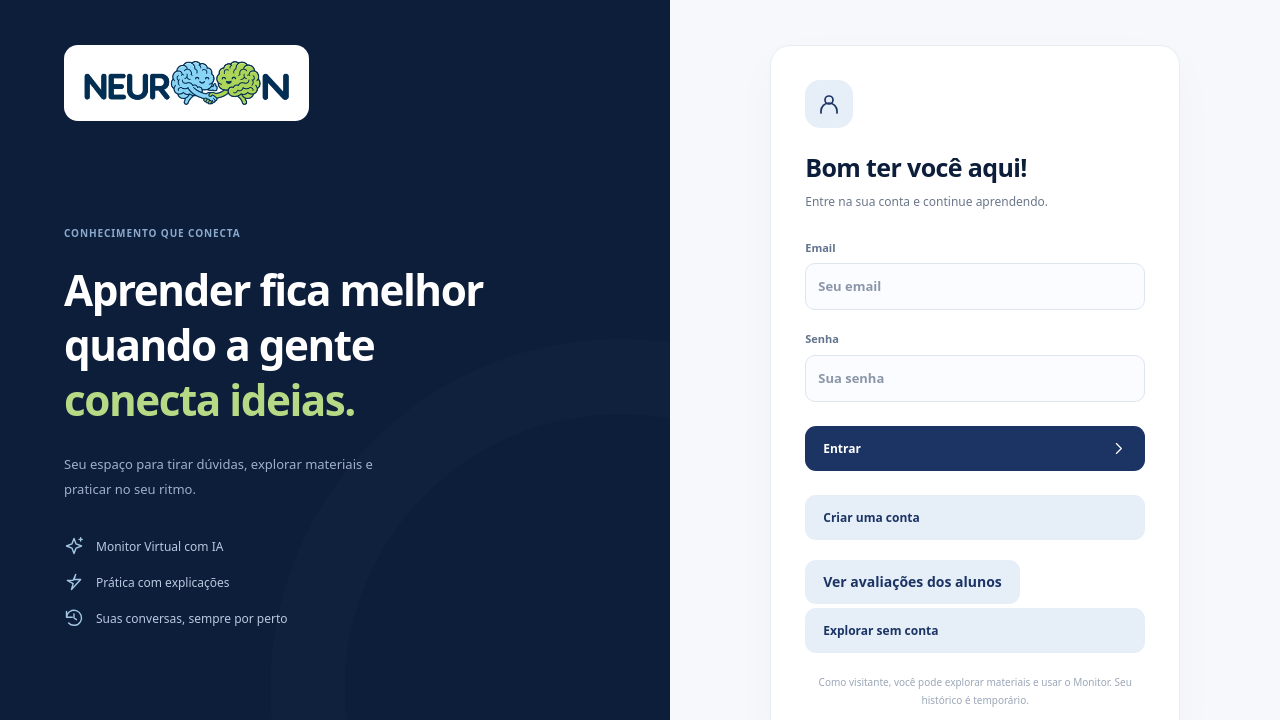
Test case: cadastra pela tela de entrada e orienta o login
Click the button "Criar uma conta" at x=872, y=517, box [805,495,1145,540]
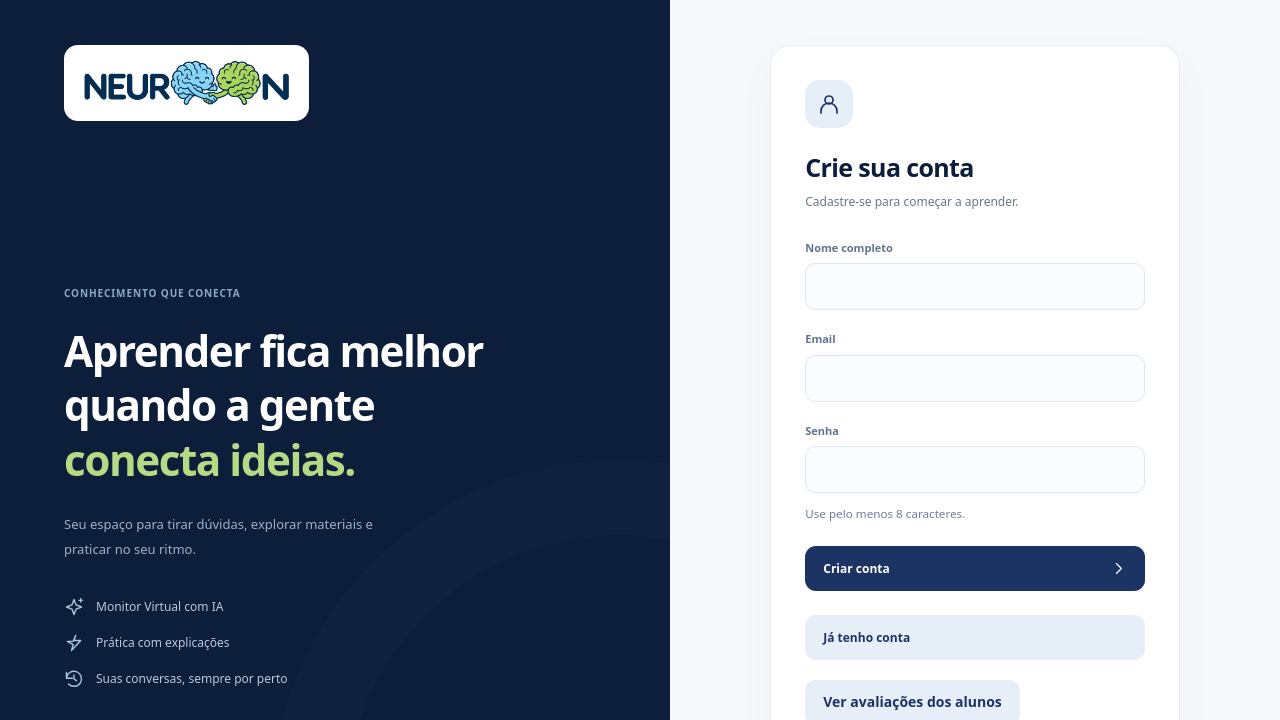
Type "Ana" into the field labelled "Nome completo" at x=975, y=287, box [805,263,1145,310]
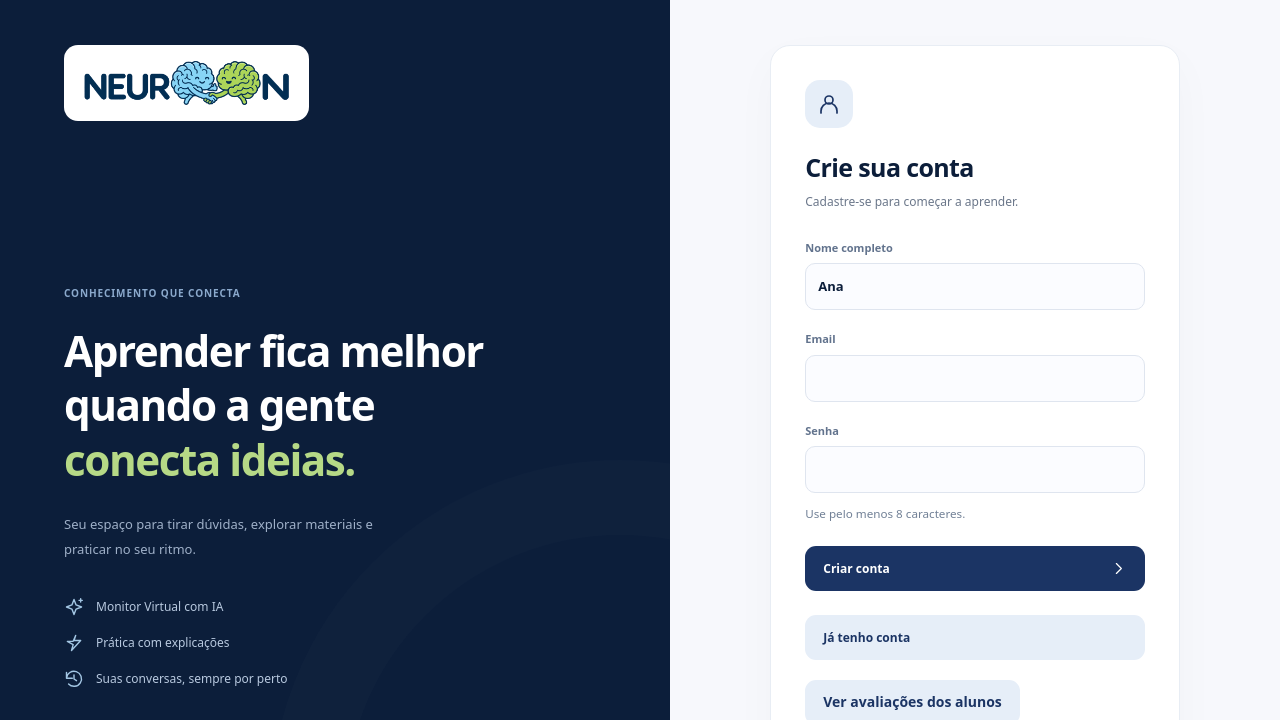
Type "ana@example.test" into the field labelled "Email" at x=975, y=378, box [805,355,1145,402]
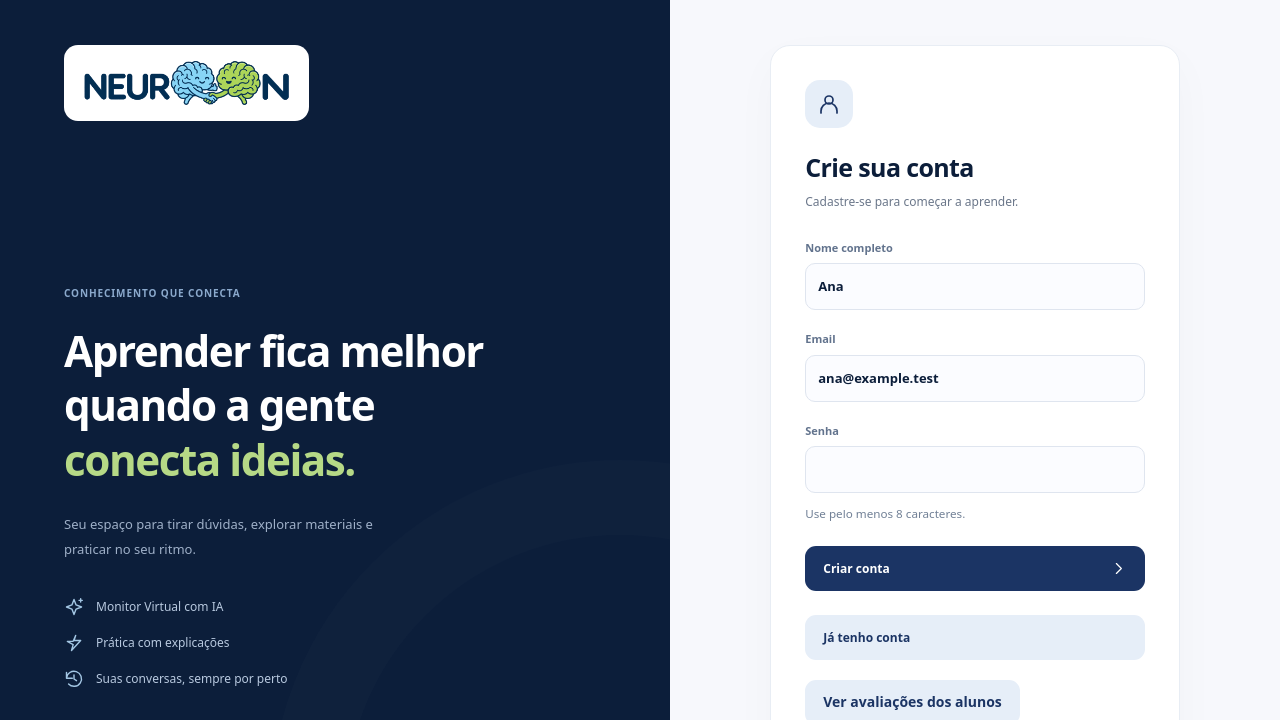
Type "senha-segura-123" into the password field labelled "Senha" at x=975, y=470, box [805,446,1145,494]
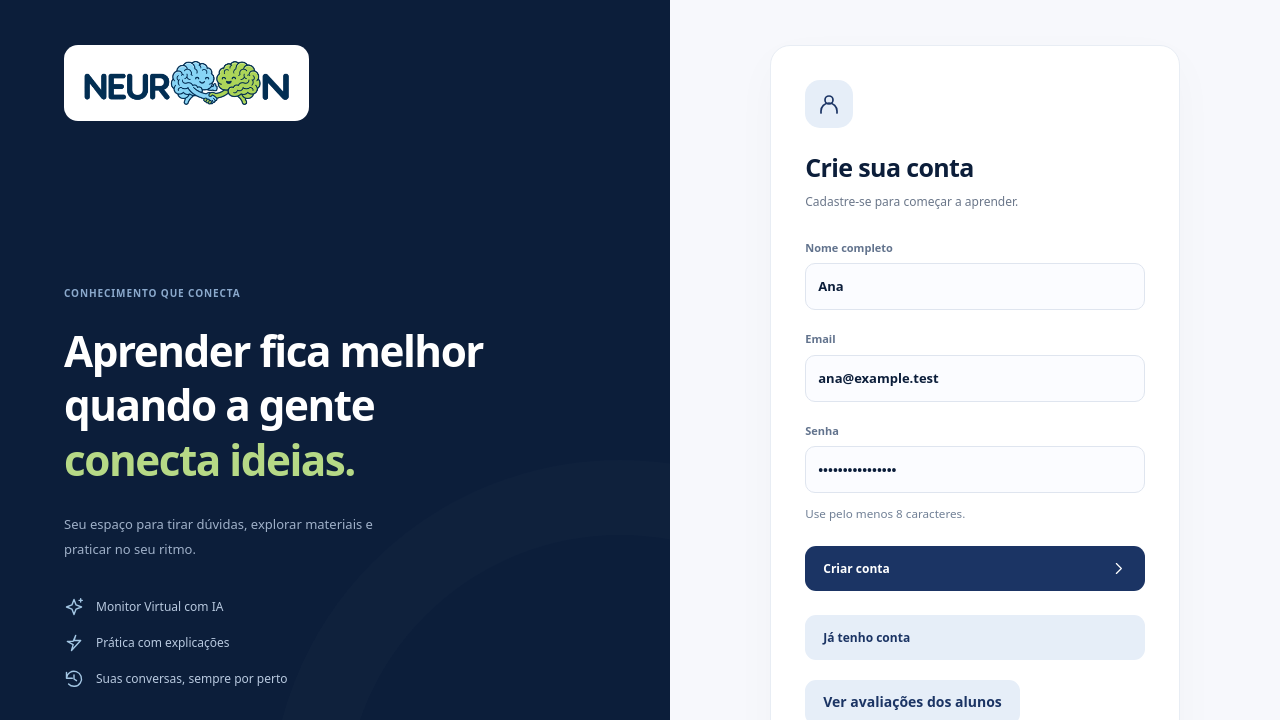
Click the button "Criar conta" at x=856, y=569, box [805,546,1145,591]
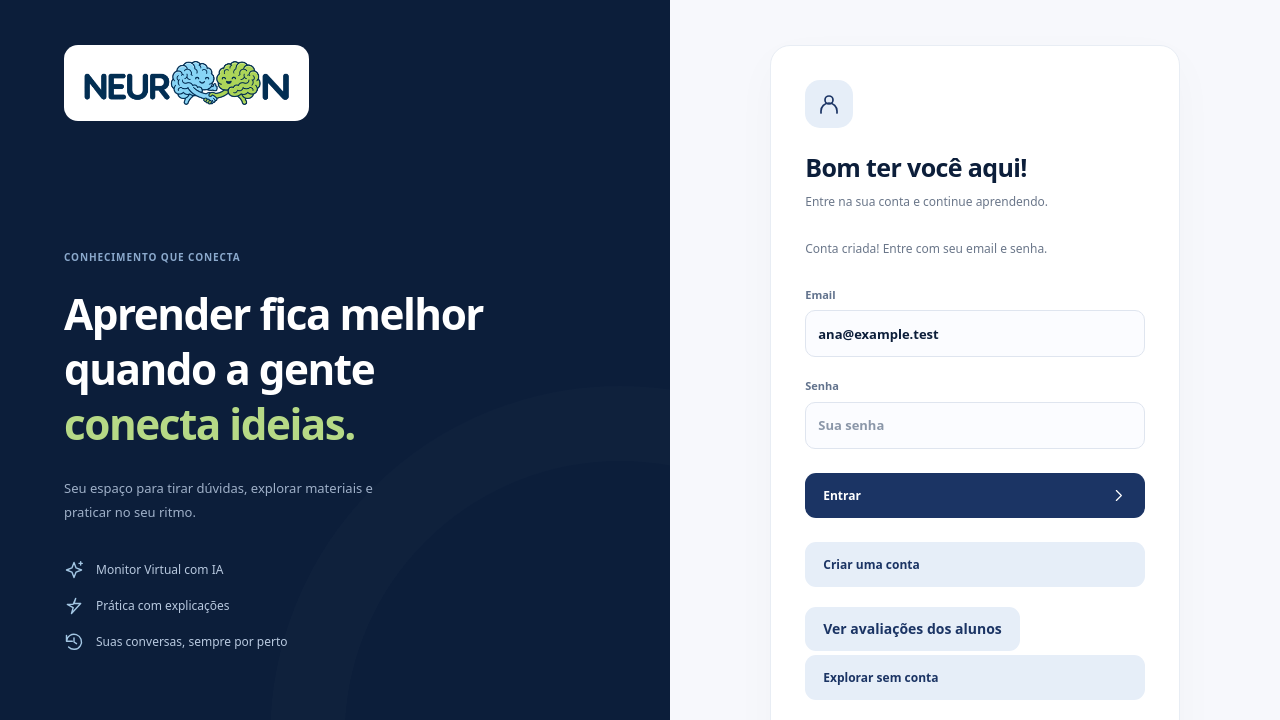
Expected: the text "Conta criada! Entre com seu email e senha." is shown, [805,240,1047,257]
